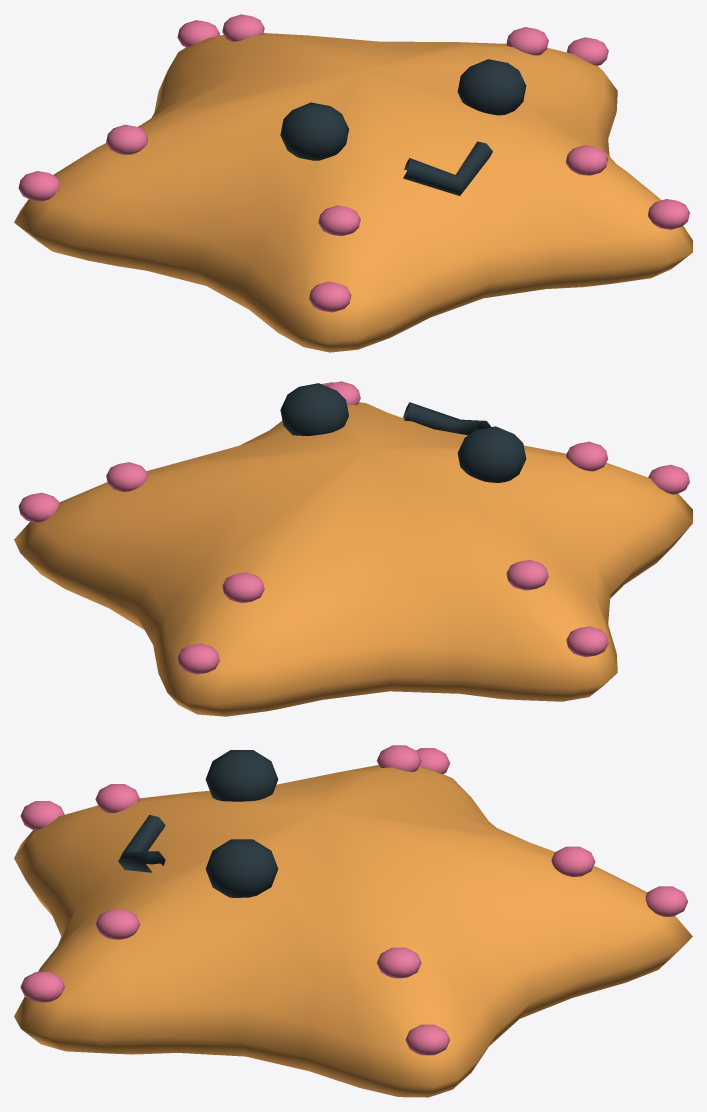
File: starfish.glb
3 renders of one model, top to bottom at view 1: azimuth 30°, elevation 25°; view 2: azimuth 150°, elevation 25°; view 3: azimuth 270°, elevation 25°, orthographic. The views are drawn at different scales.
Visible parts, largest first — view 1: StarBody, StarFreckle, StarEye; view 2: StarBody, StarFreckle, StarEye; view 3: StarBody, StarFreckle, StarEye.
Part boxes in pixels (left/top/right/bottom): StarBody: left=14, top=33, right=692, bottom=352; StarFreckle: left=18, top=14, right=689, bottom=312; StarEye: left=280, top=59, right=526, bottom=195; StarBody: left=14, top=402, right=692, bottom=716; StarFreckle: left=18, top=381, right=689, bottom=674; StarEye: left=280, top=383, right=526, bottom=482; StarBody: left=14, top=765, right=692, bottom=1097; StarFreckle: left=20, top=745, right=687, bottom=1055; StarEye: left=118, top=750, right=278, bottom=897.
Size of the model in its own units: 1.07 by 0.3208 by 1.03.
